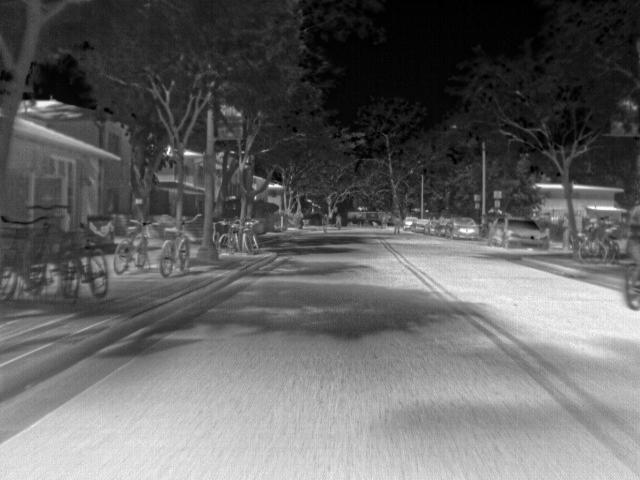car: (488, 215, 549, 250), (446, 216, 483, 239), (433, 218, 447, 239), (412, 218, 431, 232), (403, 214, 419, 230), (423, 220, 438, 236)
person: (617, 198, 640, 260), (560, 213, 572, 249), (392, 213, 401, 236), (335, 212, 343, 230), (322, 212, 329, 232)
